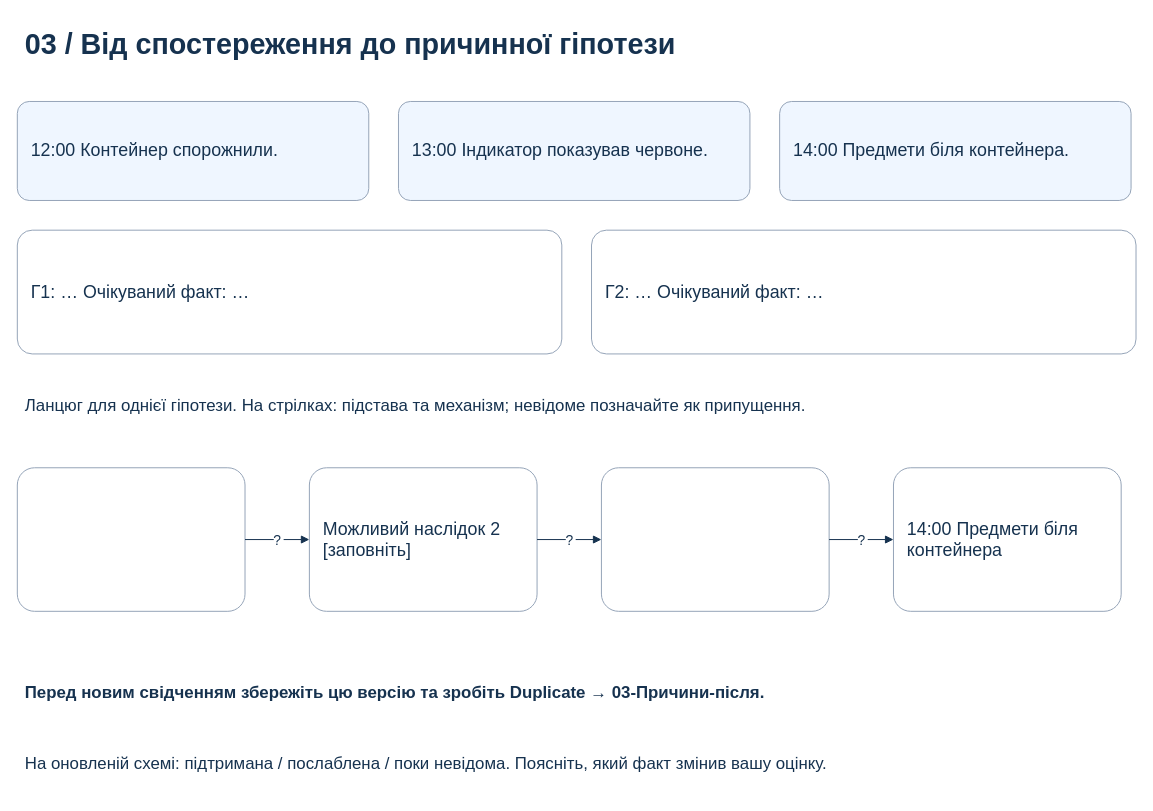
Image size: 1153x811. Some labels were removed from this diagram. The centre of each missing label's shape, as x and y in pixels:
Можлива причина 1 [заповніть]: the point at 130,539
Можливий наслідок 3 [заповніть]: the point at 714,539
